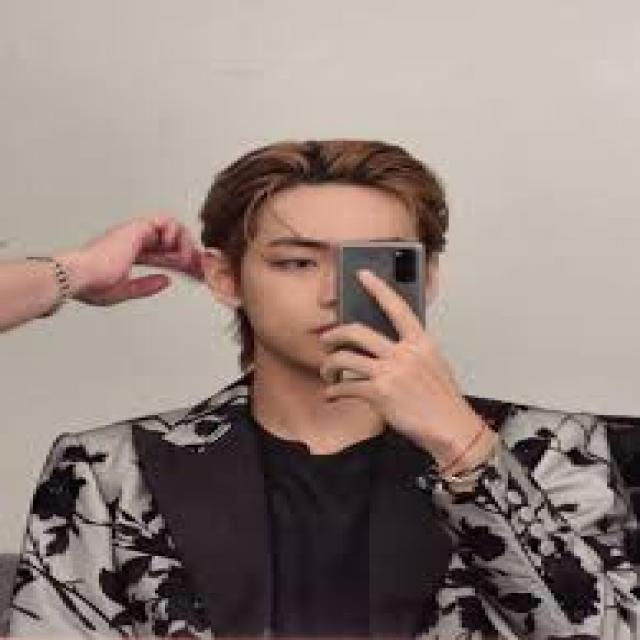Phone: (332, 238, 432, 376)
